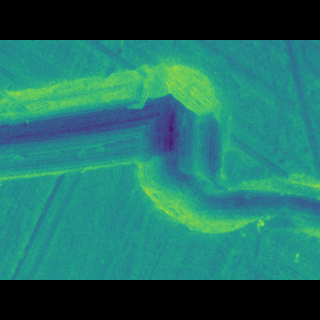Loch: (0, 86, 320, 223)
